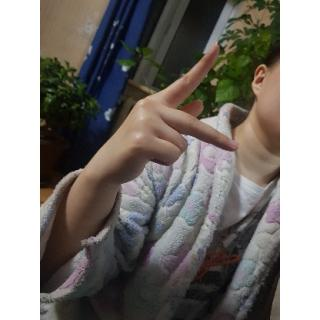DHAA: (77, 38, 252, 191)
